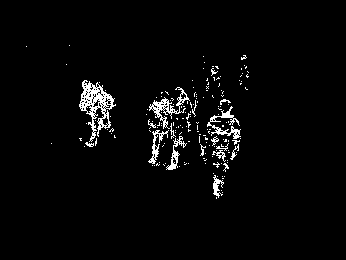person: (203, 98, 242, 199), (79, 79, 116, 147), (167, 87, 193, 170), (146, 90, 171, 167)
